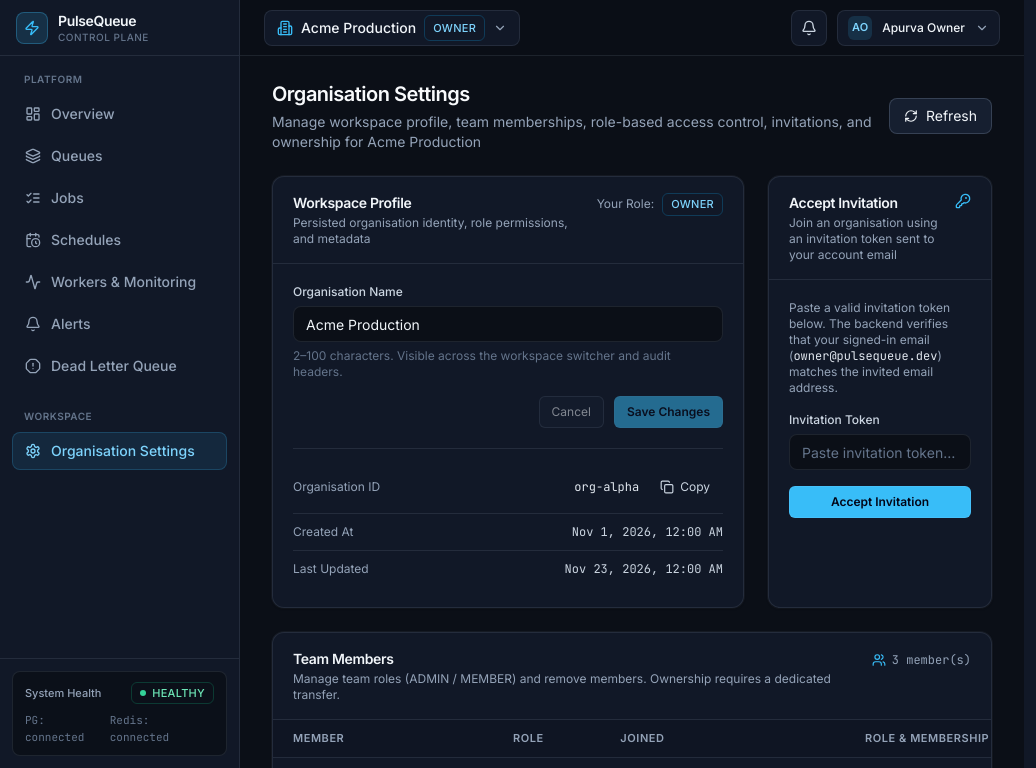
Test: Organisation Settings & Team Management UI — Profile, Members, Invitations, Ownership Transfer & RBAC (Step 6.4.4) › accepts a valid invitation token, handles expired/revoked/invalid token errors, and refreshes organisation context
Expected: the text "Apurva Owner" is shown, left=882, top=20, right=965, bottom=36
In the field labelled "Invitation Token": (880,452) left=789, top=434, right=971, bottom=470, type "expired-token-111"
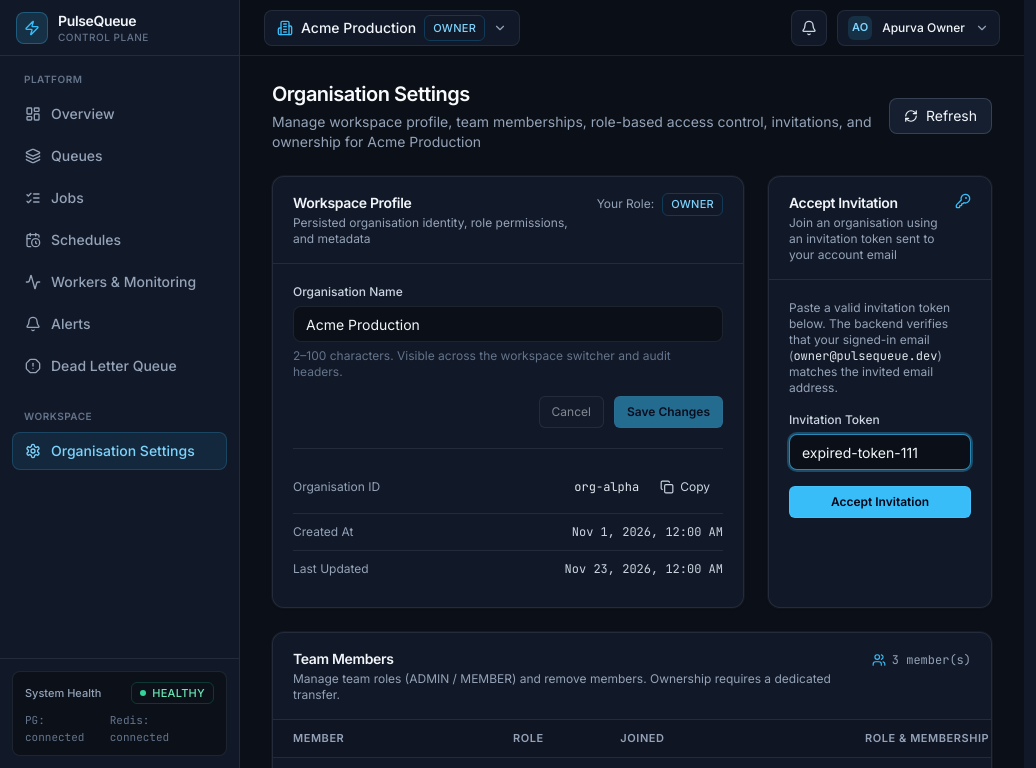
Click the button "Accept Invitation": (880,502) left=789, top=486, right=971, bottom=518
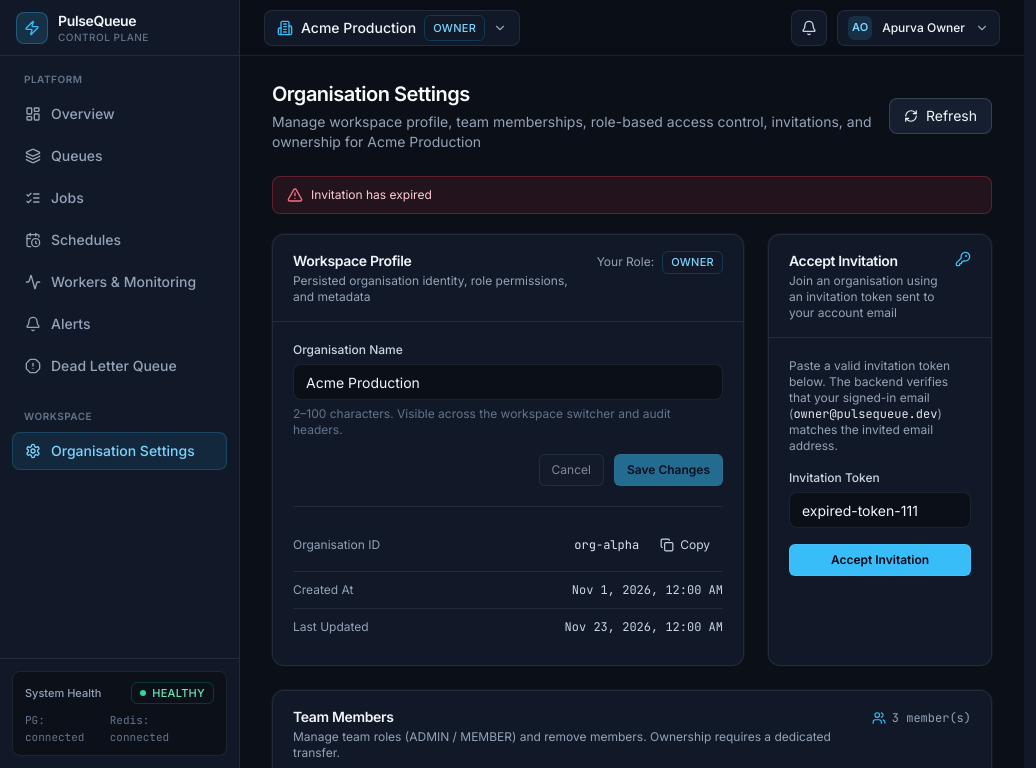
Expected: the text "Invitation has expired" is shown, left=311, top=187, right=432, bottom=203
Replace the text in the field labelled "Invitation Token" with "valid-token-222": (880,510) left=789, top=492, right=971, bottom=528
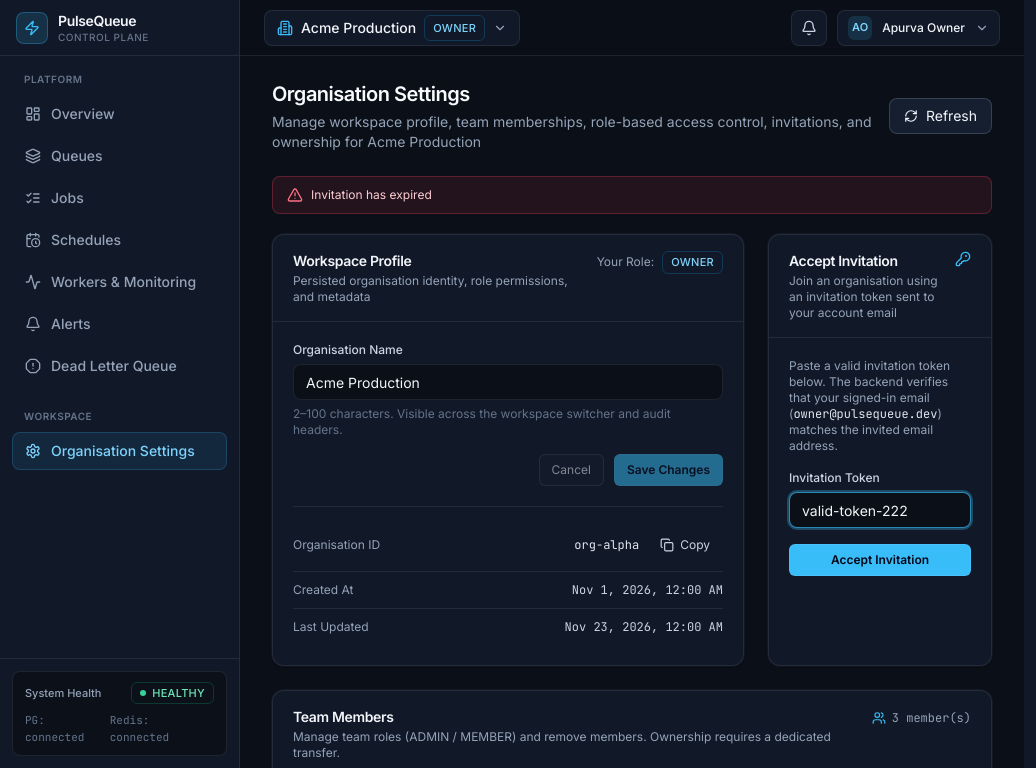
Click the button "Accept Invitation": (880,560) left=789, top=544, right=971, bottom=576
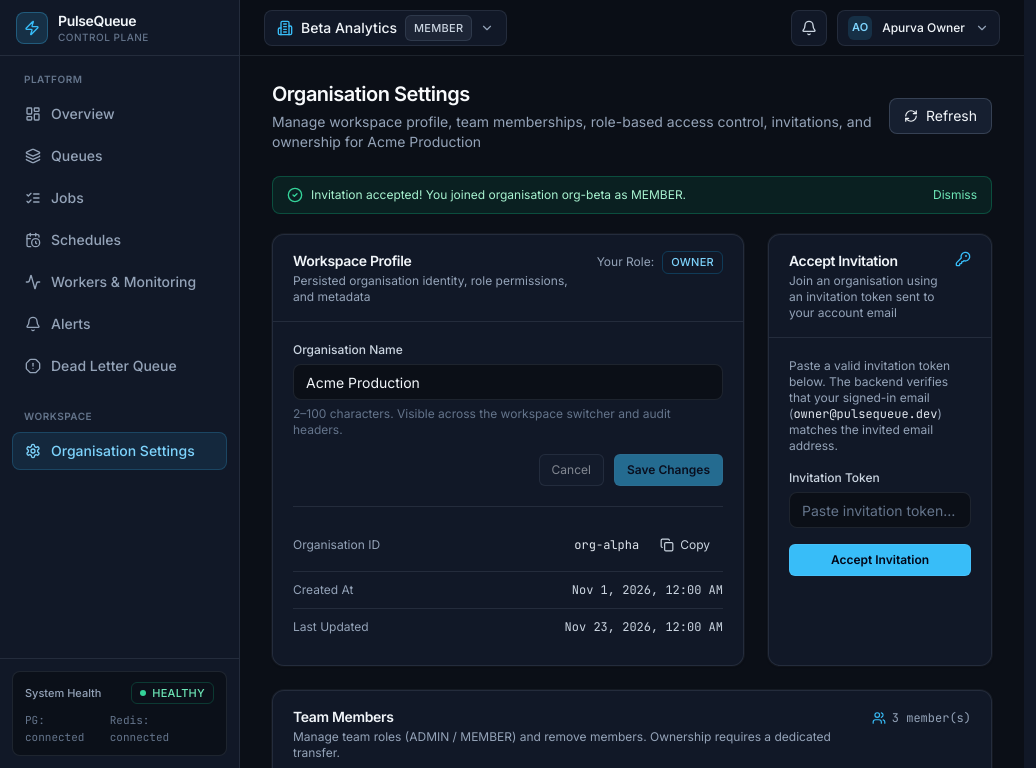
Expected: the text "Invitation accepted!" is shown, left=311, top=187, right=686, bottom=202
